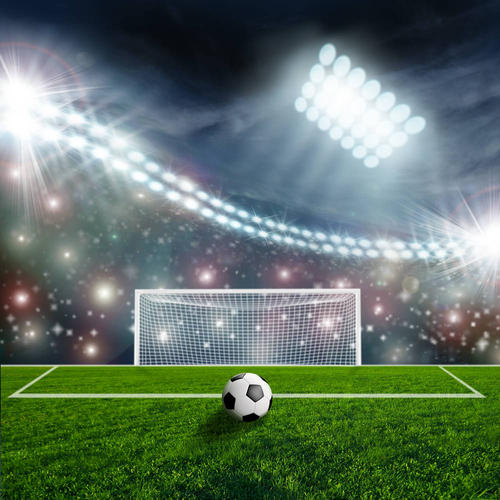football: (218, 368, 278, 423)
